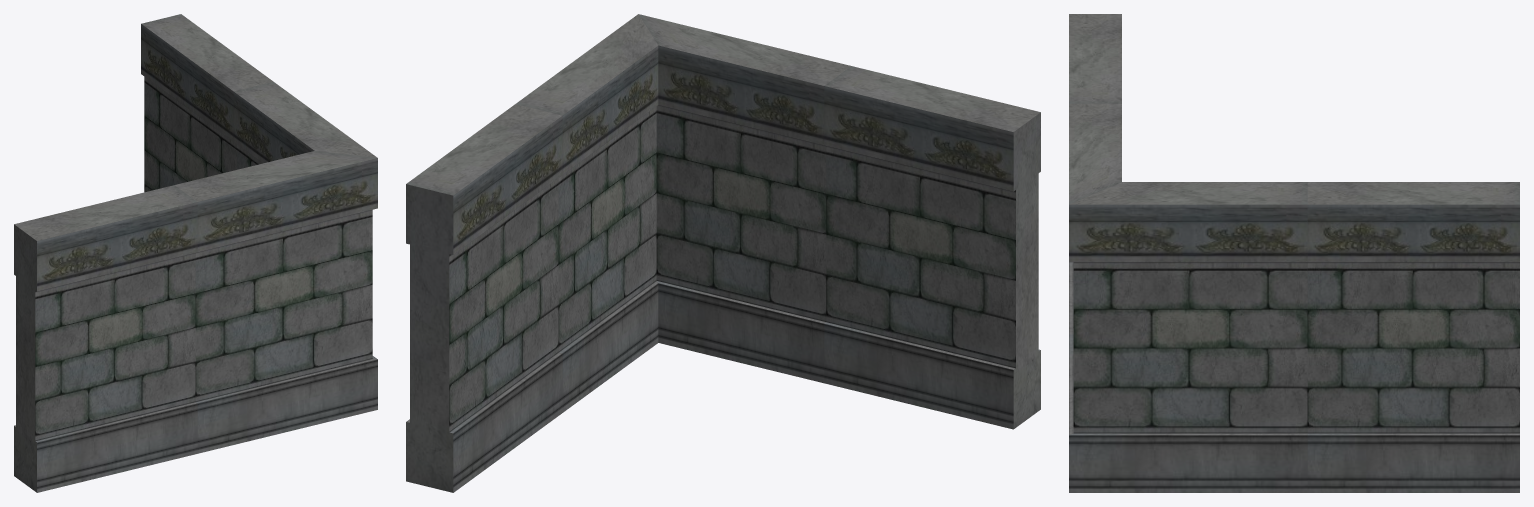
The model's file is wall_large_corner_01.glb.
3 views of the same model, side by side, from view 1: azimuth 30°, elevation 25°; view 2: azimuth 150°, elevation 25°; view 3: azimuth 270°, elevation 25° (orthographic). The views are drawn at different scales.
Parts seen in each view (by area): view 1: wall_large_corner_01; view 2: wall_large_corner_01; view 3: wall_large_corner_01.
Part boxes in pixels (bbox=[...]): wall_large_corner_01: bbox=[14, 14, 377, 492]; wall_large_corner_01: bbox=[406, 14, 1040, 492]; wall_large_corner_01: bbox=[1069, 14, 1519, 492].
Size of the model in its own units: 4.25 by 3 by 4.25.
1 material, 1 textured.
